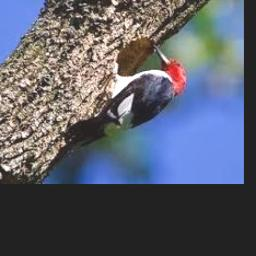Woodpecker: (65, 45, 186, 154)
